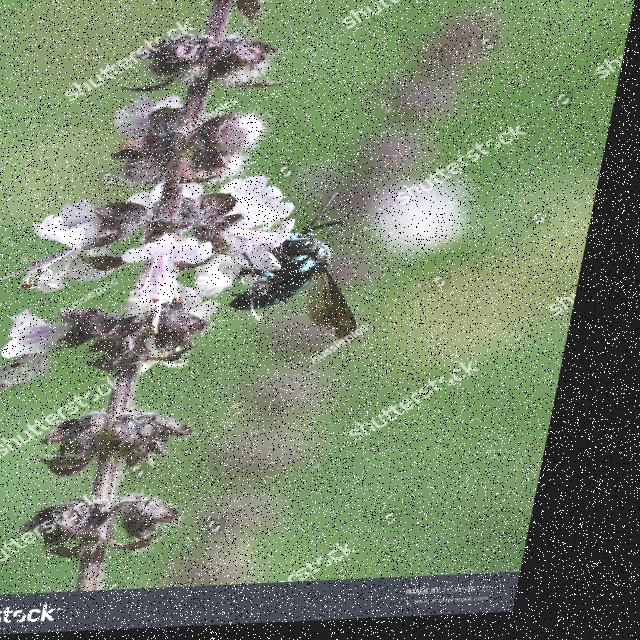Thyreus: (232, 186, 407, 352)
